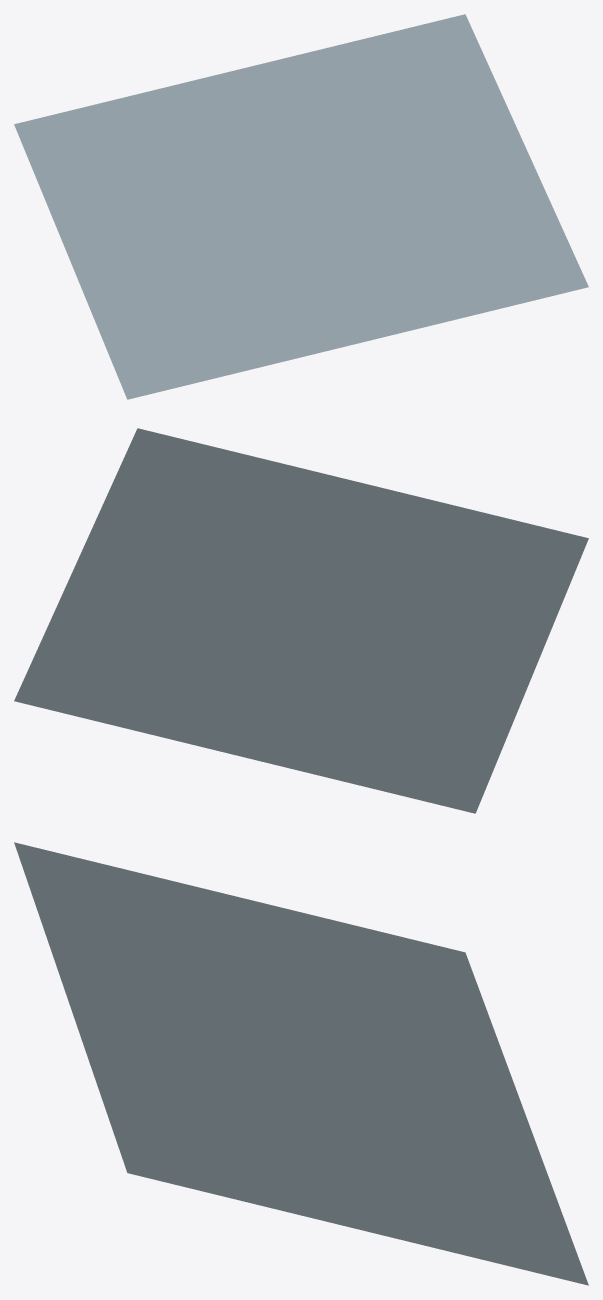
3 views of the same model, one above another, from view 1: azimuth 30°, elevation 25°; view 2: azimuth 150°, elevation 25°; view 3: azimuth 330°, elevation 25° (orthographic).
Parts seen in each view (by area): view 1: pCube10; view 2: pCube10; view 3: pCube10.
Part boxes in pixels (x1,y1,x2,y2): pCube10: [14, 14, 588, 399]; pCube10: [14, 428, 588, 813]; pCube10: [14, 842, 588, 1285].
Bounding box in the file's own units: 52.52 × 26.46 × 0.
